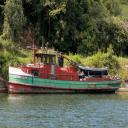tugboat: (8, 47, 125, 99)
